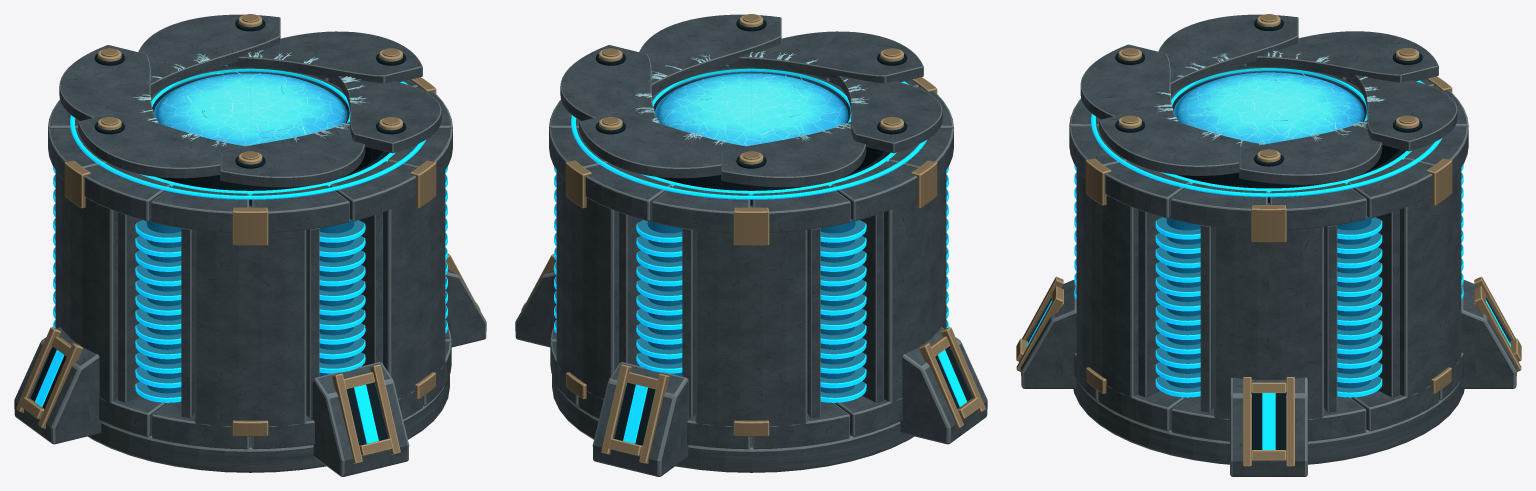
File: frost.glb
3 views of the same model, side by side, from view 1: azimuth 30°, elevation 25°; view 2: azimuth 150°, elevation 25°; view 3: azimuth 270°, elevation 25° (orthographic).
Parts seen in each view (by area): view 1: Frost fixed body solid, Frost rotating iris solid, Frost rotating iris skin; view 2: Frost fixed body solid, Frost rotating iris solid, Frost rotating iris skin; view 3: Frost fixed body solid, Frost rotating iris solid, Frost rotating iris skin.
Part boxes in pixels (<box>): Frost fixed body solid: <box>14,65,486,476</box>; Frost rotating iris solid: <box>59,14,441,199</box>; Frost rotating iris skin: <box>153,67,348,144</box>; Frost fixed body solid: <box>515,65,987,476</box>; Frost rotating iris solid: <box>560,14,942,199</box>; Frost rotating iris skin: <box>654,67,849,144</box>; Frost fixed body solid: <box>1016,64,1521,476</box>; Frost rotating iris solid: <box>1080,14,1457,197</box>; Frost rotating iris skin: <box>1173,66,1365,121</box>.
Size of the model in its own units: 0.8169 by 0.5344 by 0.8169.
Materials: 13 (3 with a texture image).
